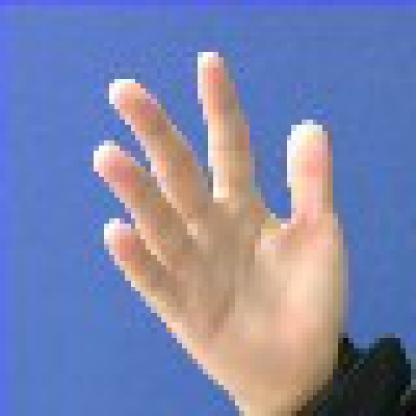five: (62, 31, 364, 411)
